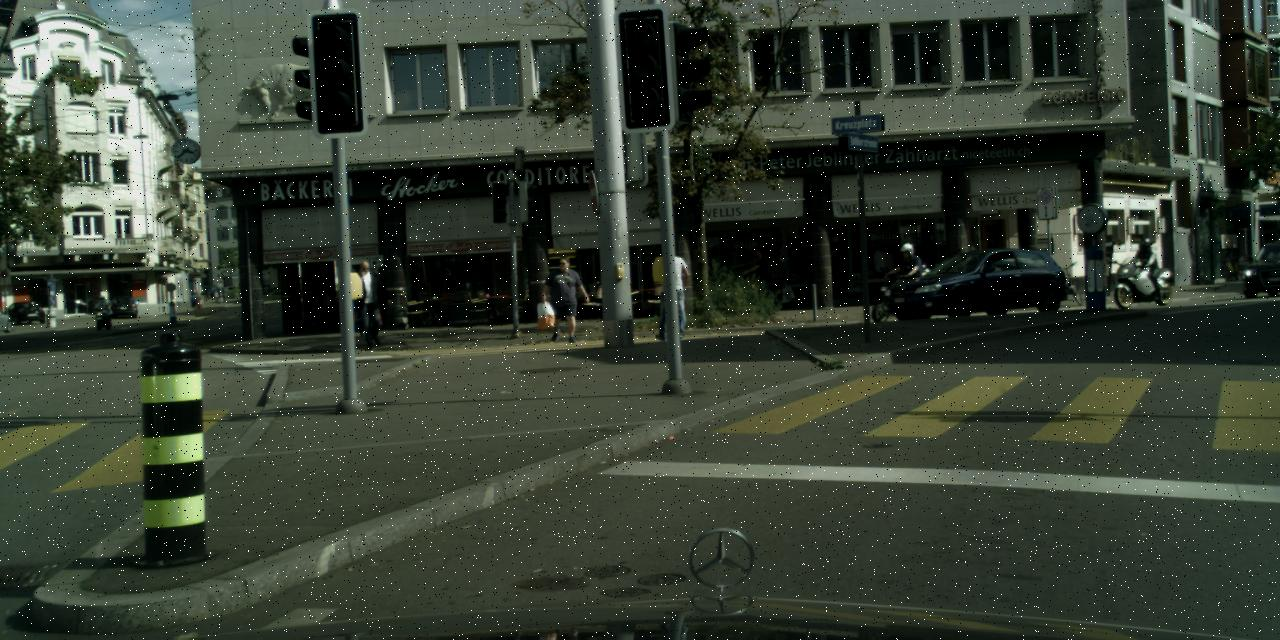ped: (651, 247, 688, 339), (351, 260, 386, 346), (546, 256, 580, 340), (898, 242, 923, 306), (748, 248, 771, 305), (1136, 238, 1158, 293), (766, 252, 786, 304), (98, 295, 108, 322), (221, 287, 227, 302), (213, 289, 218, 303)
